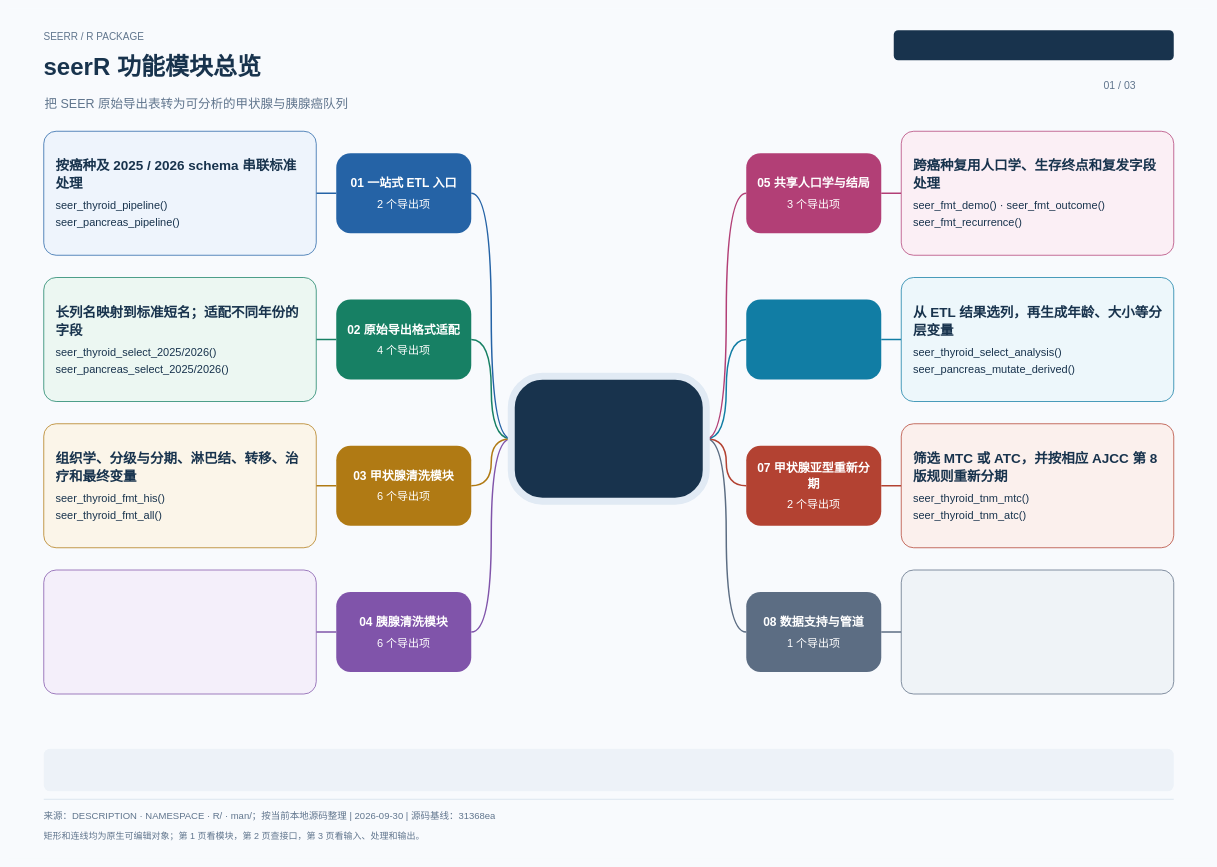
Image size: 1217x867. Some labels were removed from this diagram. The centre of each missing label's shape, as x and y in pixels:
"06 分析子集与派生 4 个导出项" goes at pixel 813 339.
"ICD 字典、2025 / 2026 队列；重导出 magrittr 管道 ICD_thyroid · ICD_pancreas %>%" goes at pixel 1037 631.
"seerR SEER 数据整理 癌种 × schema 模块" goes at pixel 609 438.
"v0.1.0 · 27 个函数 · 1 个运算符" goes at pixel 1034 45.
"保留胰腺癌特异的组织学、分期及治疗编码规则 seer_pancreas_fmt_his() seer_pancreas_fmt_all()" goes at pixel 179 631.
"阅读提示 28 个导出项 = 27 个函数 + 1 个管道运算符；另有 2 个 ICD 字典和 4 个队列数据对象。" goes at pixel 609 769.
